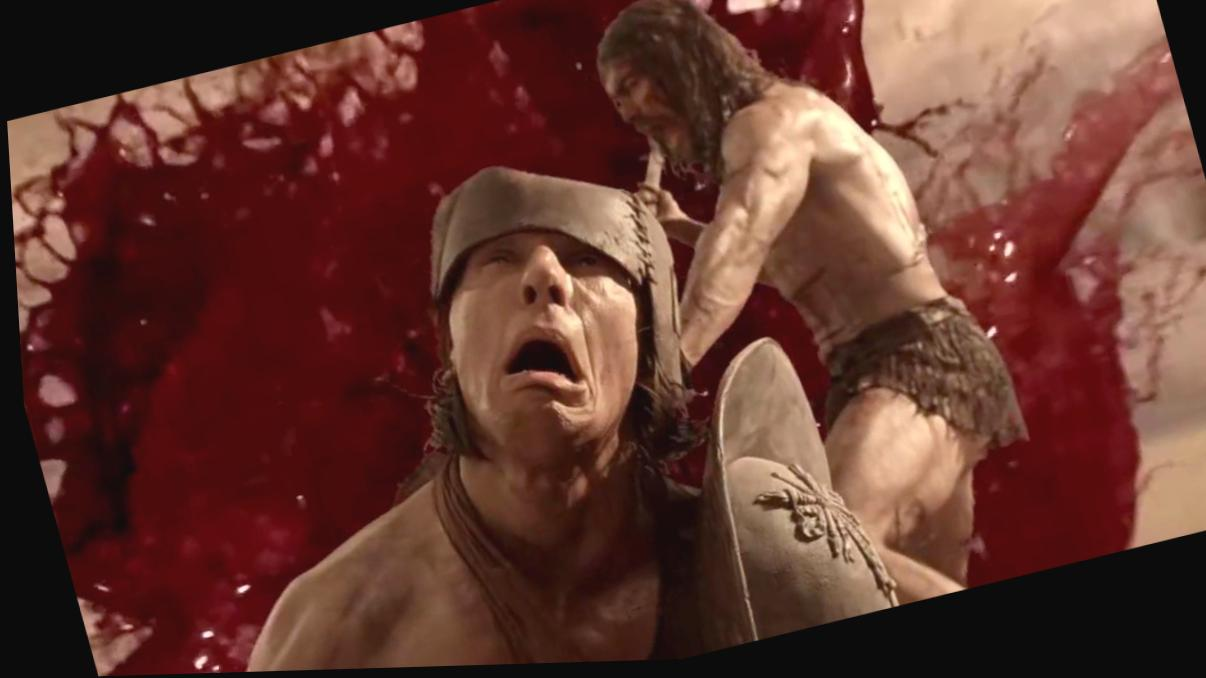Fire: (6, 0, 644, 677), (691, 0, 1206, 592)
